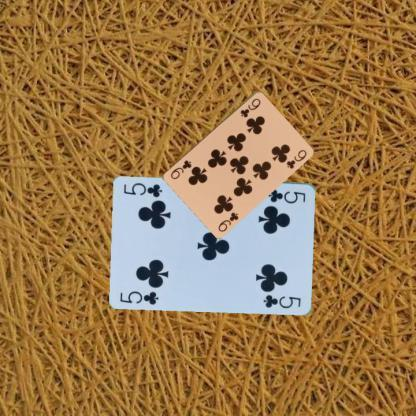5c: (117, 288, 160, 306), (266, 186, 307, 204)
9c: (215, 209, 240, 233), (237, 95, 262, 118)
